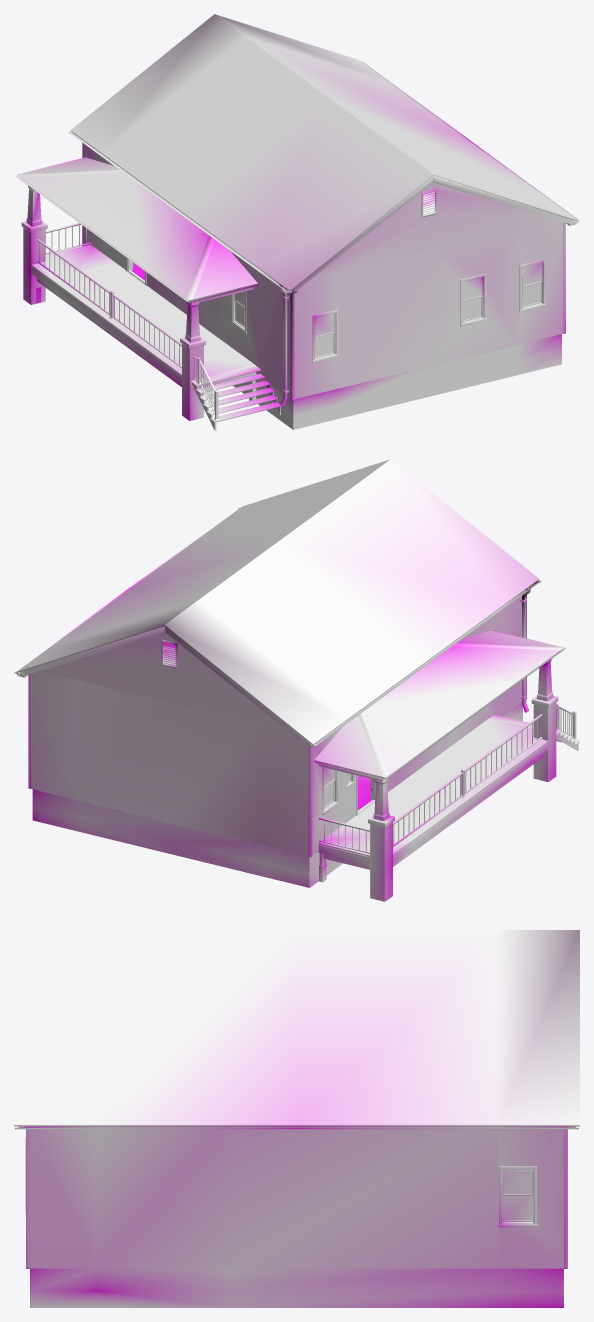
File: SM_House_04.fbx
3 renders of one model, top to bottom at view 1: azimuth 30°, elevation 25°; view 2: azimuth 150°, elevation 25°; view 3: azimuth 270°, elevation 25°, orthographic. The views are drawn at different scales.
Parts seen in each view (by area): view 1: SM_House_04_LOD0; view 2: SM_House_04_LOD0; view 3: SM_House_04_LOD0.
Part boxes in pixels (<box>): SM_House_04_LOD0: <box>14,14,579,430</box>; SM_House_04_LOD0: <box>14,459,579,901</box>; SM_House_04_LOD0: <box>14,930,579,1307</box>.
Bounding box in the file's own units: 1108 × 680 × 1187.
